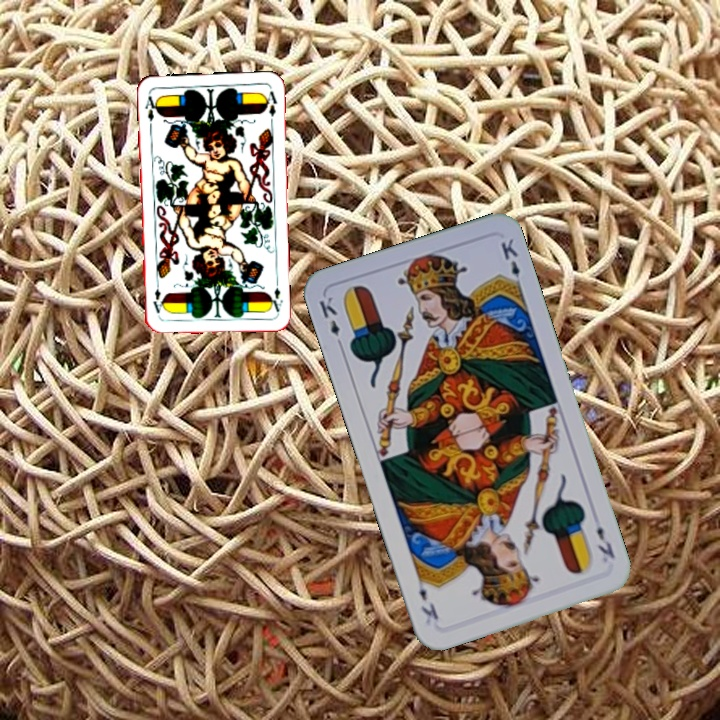EA: (266, 274, 285, 314), (141, 92, 160, 124)
EK: (315, 292, 346, 351), (592, 522, 618, 561)
